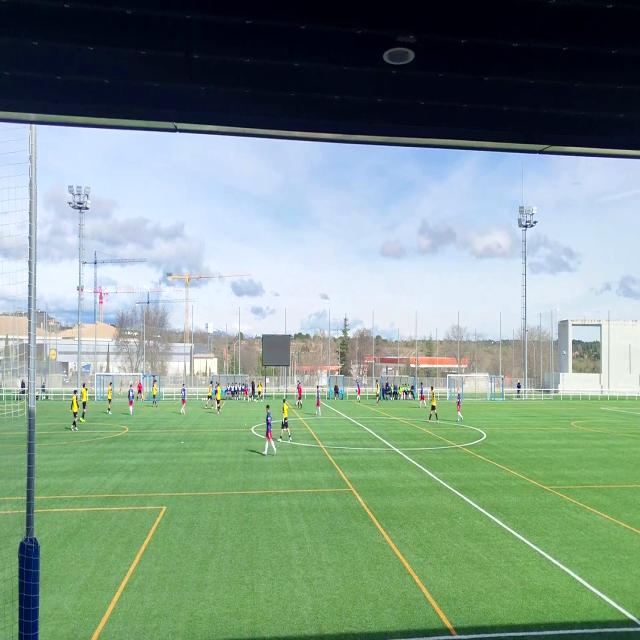bigarea_top_inner: (20, 405, 25, 413), (599, 404, 604, 412)
halfcircle_bottom: (388, 441, 403, 458)
halfcircle_top: (342, 411, 351, 423)
